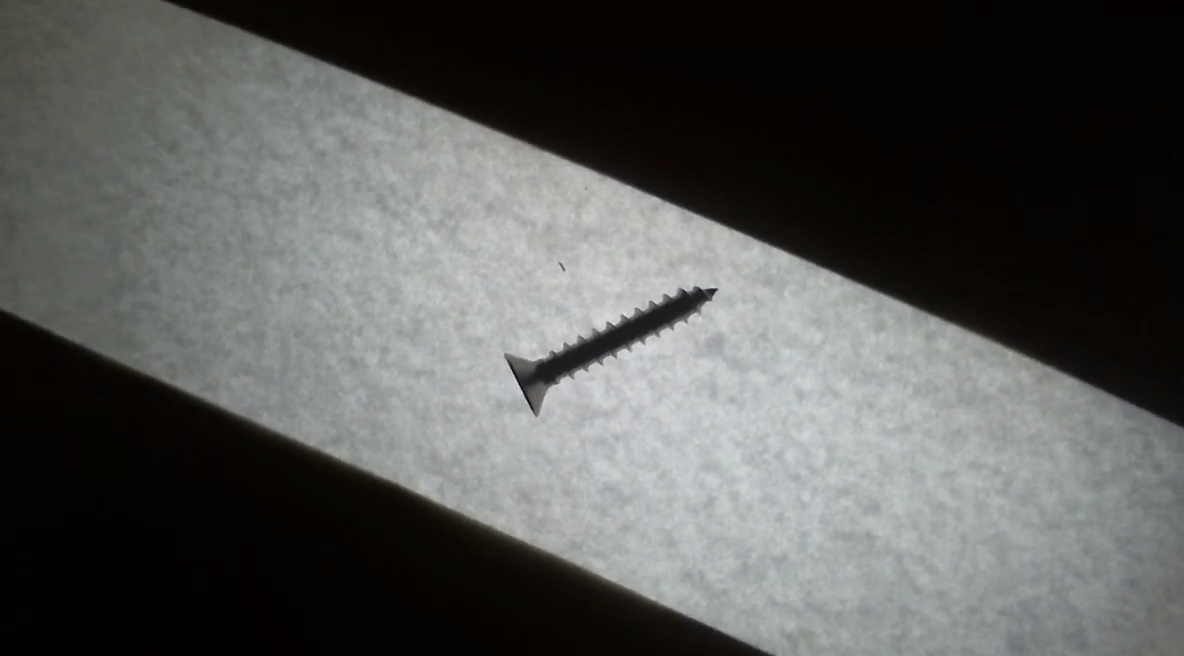S001: (493, 270, 744, 429)
